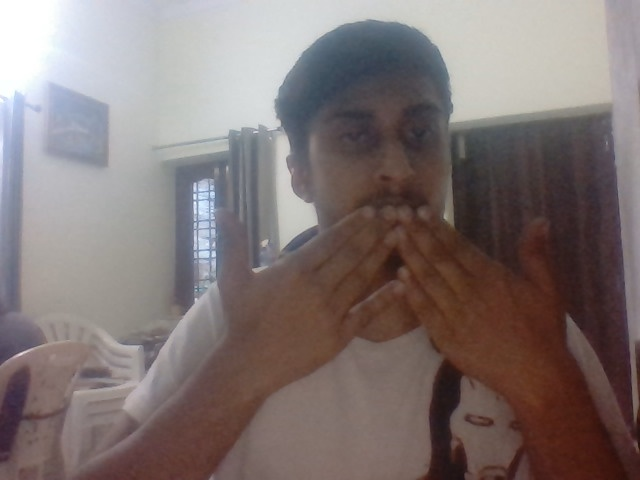ThankYou: (215, 208, 568, 369)
